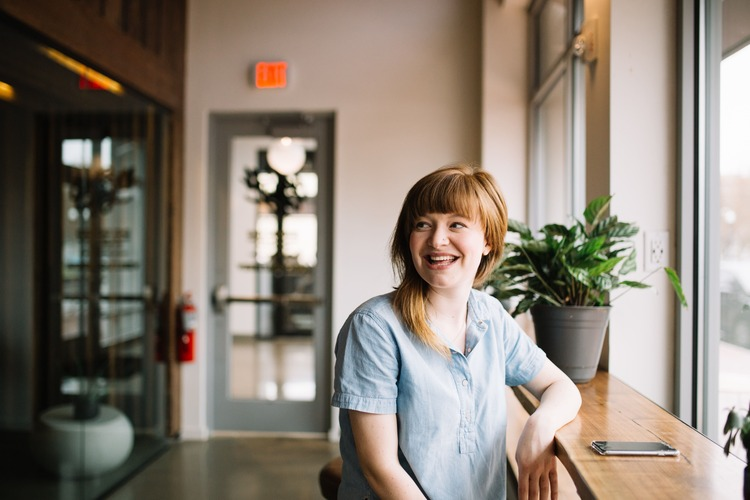without_mask: (410, 206, 477, 287)
